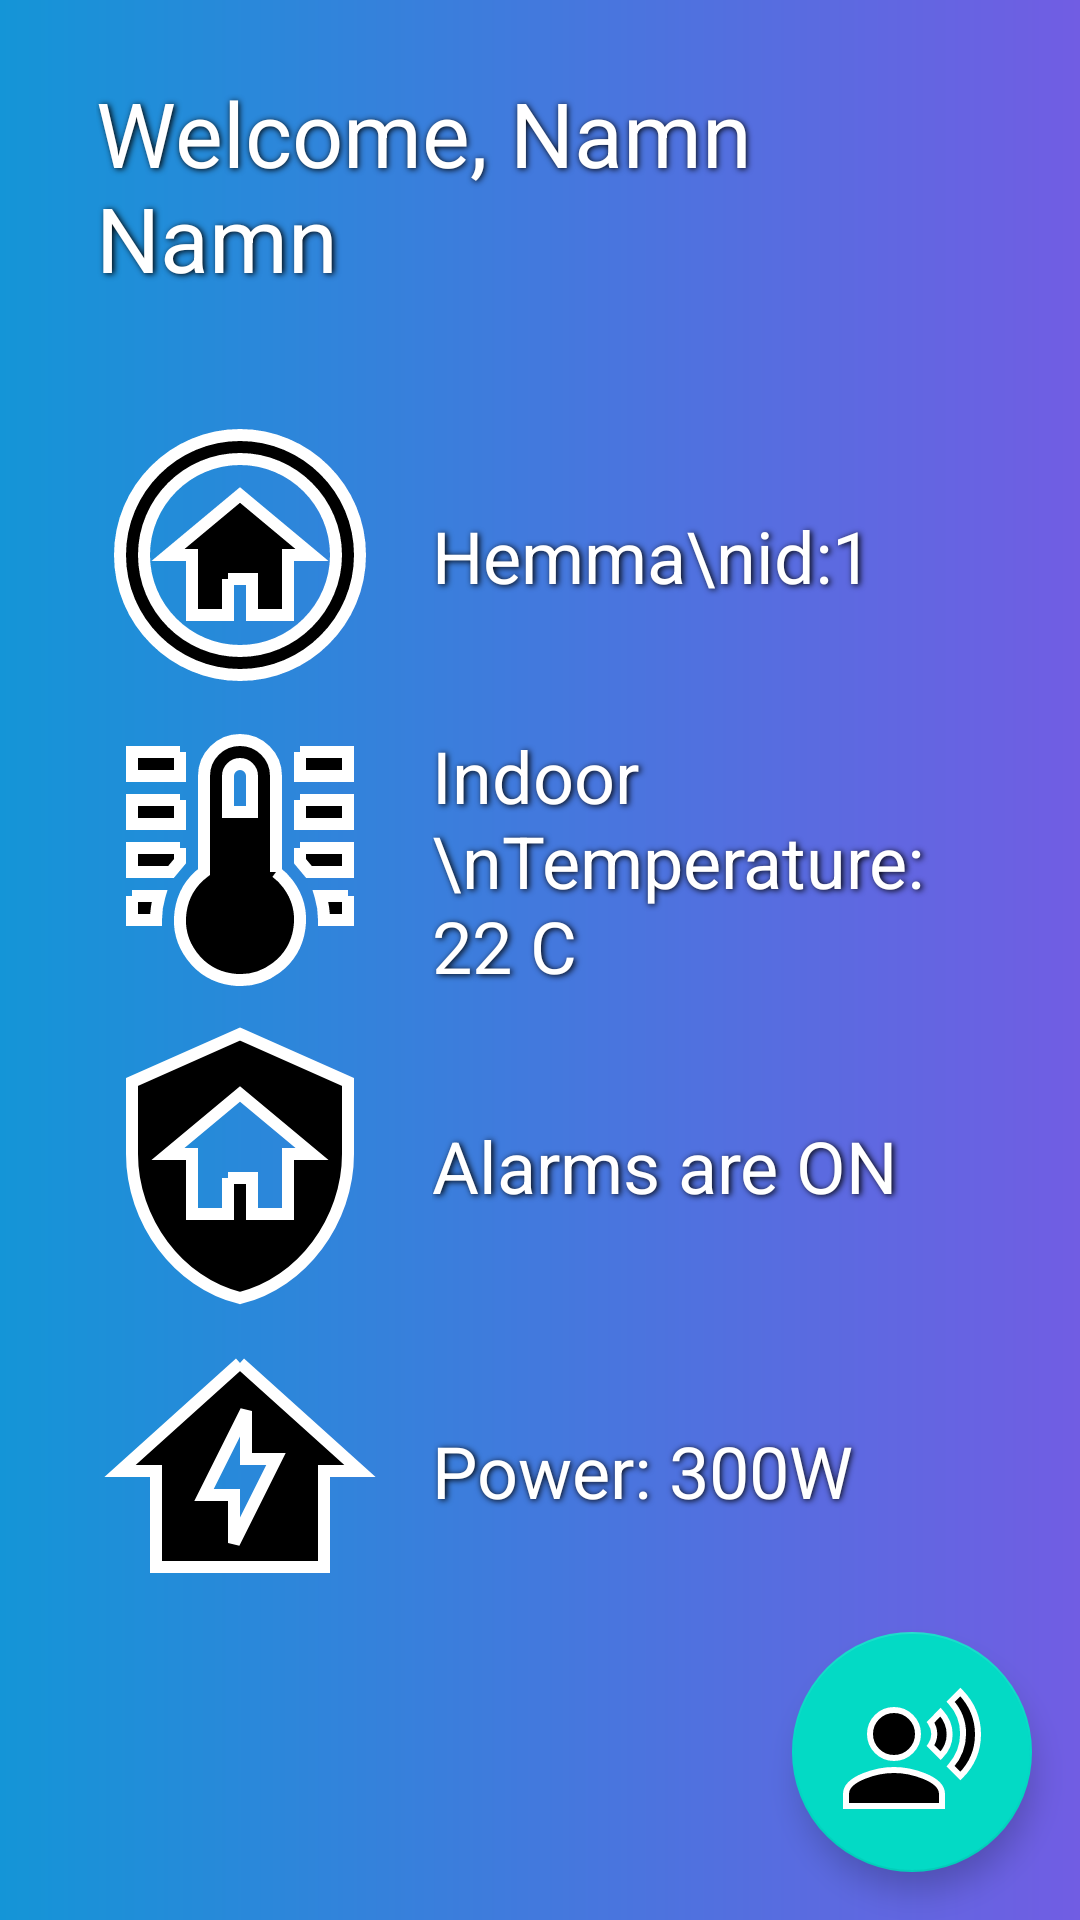

Named icons in this screenshot (1080px×1920px) and their bounding boxes, {"left": x1, "top": y1, "right": x2, "bottom": y2}:
home circle: {"left": 114, "top": 429, "right": 366, "bottom": 681}
home lightning bolt: {"left": 104, "top": 1358, "right": 376, "bottom": 1573}
record voice over: {"left": 792, "top": 1632, "right": 1032, "bottom": 1872}
shield home: {"left": 126, "top": 1027, "right": 354, "bottom": 1304}
thermometer lines: {"left": 126, "top": 734, "right": 354, "bottom": 986}
